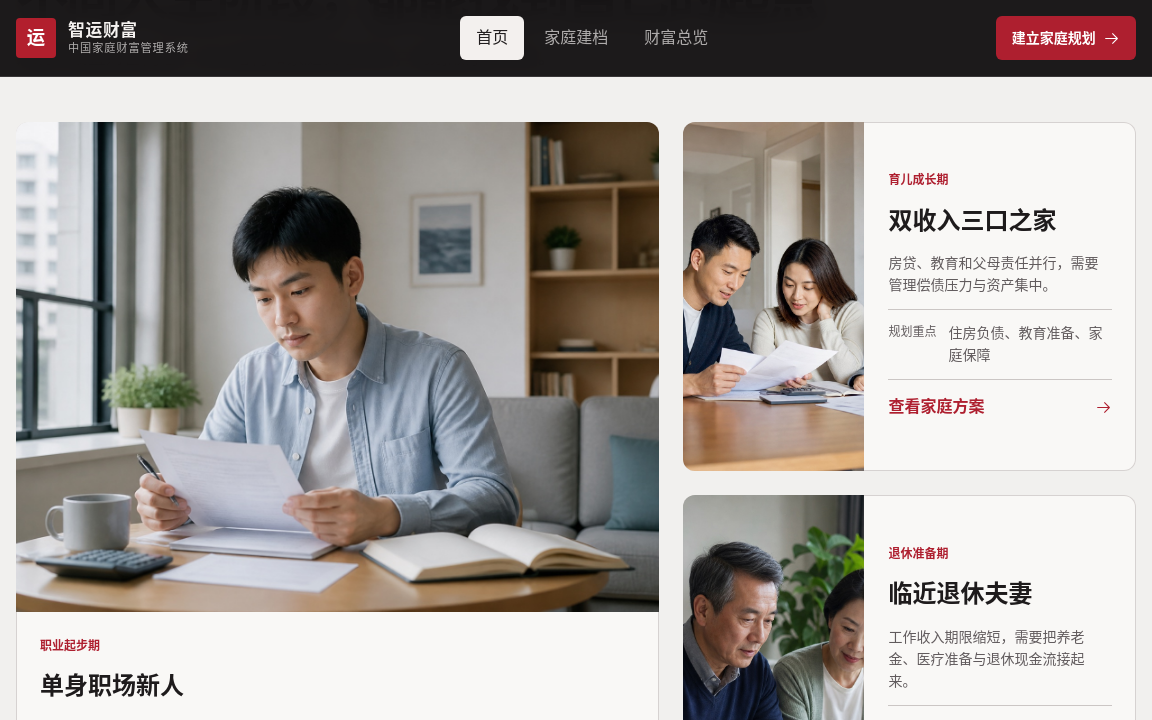
Fortune Copilot routes › opens a homepage customer case in the guided planning journey
(page scrolled)
Expected: the element "双收入三口之家" is shown, [683,122,1136,471]
Click the button "查看家庭方案" at (1000, 401), box [888,379,1112,423]
(page scrolled)
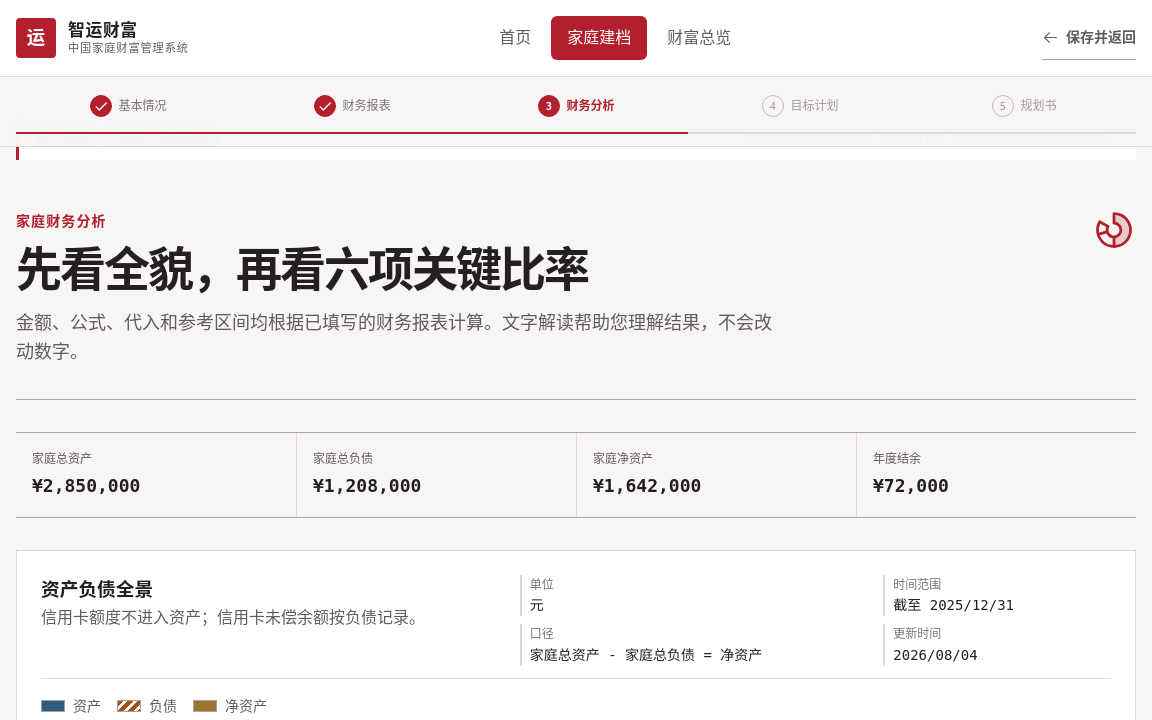
Expected: the heading "先看全貌，再看六项关键比率" is shown, [16,241,588,297]
Expected: the text "客户案例：B 家庭（测试夹具）" is shown, [35,126,230,148]
